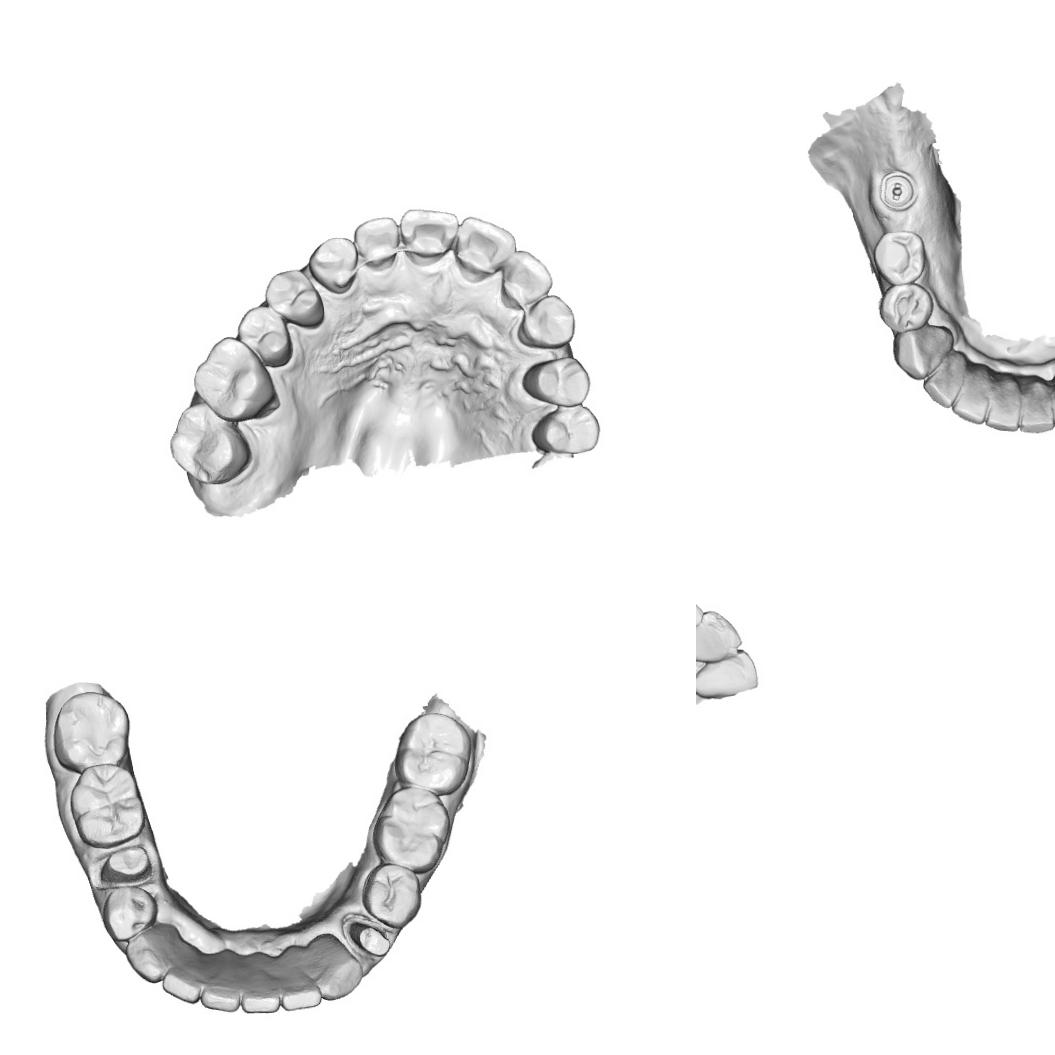canine: (890, 322, 956, 380), (514, 292, 578, 350), (306, 234, 358, 296), (314, 938, 364, 1000), (126, 926, 172, 985)
crown: (344, 918, 395, 961), (98, 846, 151, 886)
implant_minus: (878, 168, 919, 212)
incisor: (452, 214, 518, 284), (398, 206, 461, 268), (497, 247, 555, 311), (696, 648, 760, 700), (351, 214, 402, 274), (919, 352, 967, 410), (281, 950, 323, 1014), (696, 608, 743, 665), (949, 365, 992, 426), (158, 956, 207, 1004), (1017, 373, 1055, 434), (198, 961, 240, 1015), (986, 374, 1020, 432), (241, 967, 282, 1015)
molar: (190, 333, 277, 424), (167, 399, 254, 487), (51, 690, 132, 774), (68, 764, 146, 850), (375, 786, 453, 872), (398, 711, 472, 791)
premolar: (262, 266, 325, 330), (235, 304, 295, 370), (362, 862, 422, 928), (520, 354, 592, 408), (528, 404, 602, 455), (102, 882, 160, 943), (876, 281, 936, 336), (872, 229, 928, 287)
